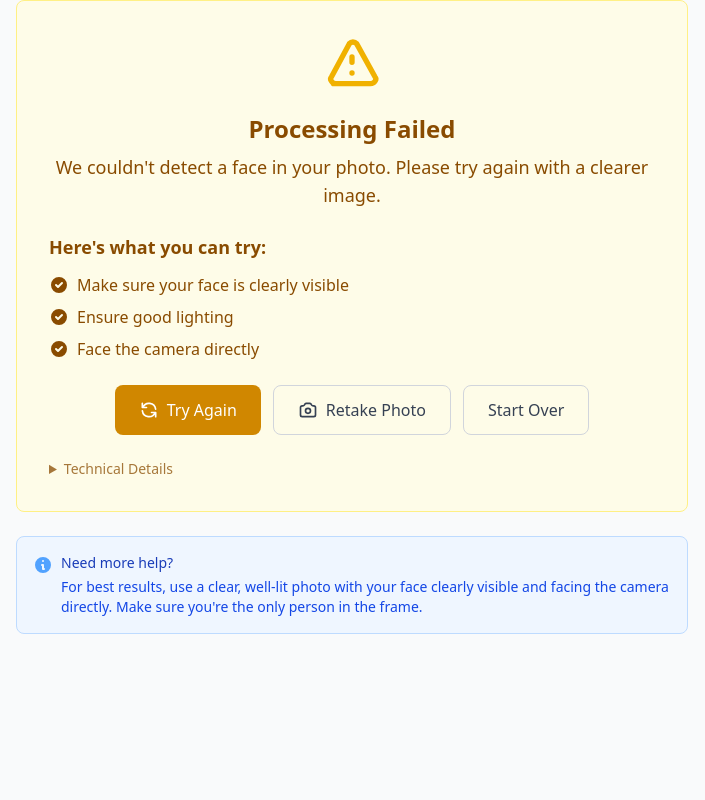
Scenario: ProcessingError Component › should display technical details in collapsible section
The width and height of the screenshot is (705, 800).
What coordinates should you click on to do the following:
click the heading "Technical Details"
I would click on:
 (118, 468)
Its box is x1=64 y1=459 x2=173 y2=478.
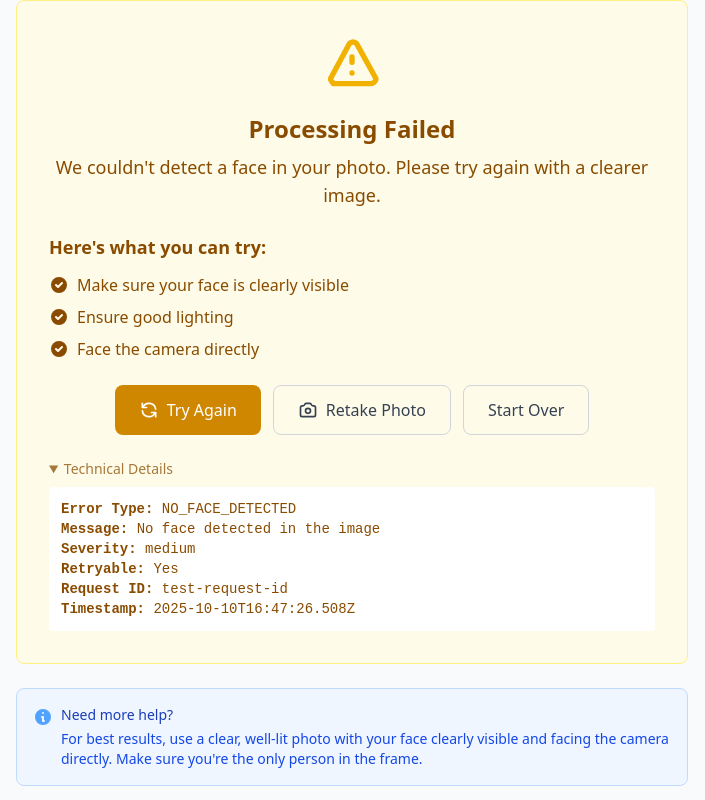
Expected: the text "Error Type:" is shown, x1=61 y1=501 x2=153 y2=517
Expected: the text "NO_FACE_DETECTED" is shown, x1=162 y1=501 x2=296 y2=517
Expected: the text "Severity:" is shown, x1=61 y1=541 x2=137 y2=557
